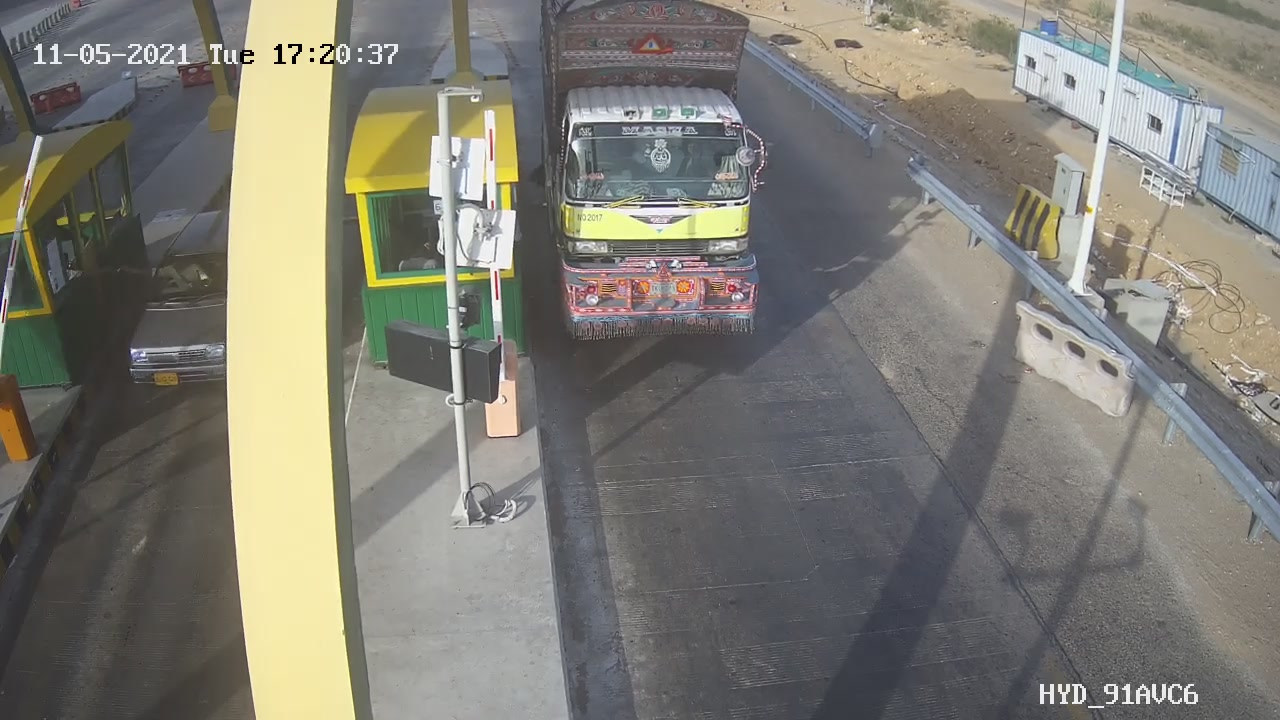F6: (520, 1, 800, 365)
